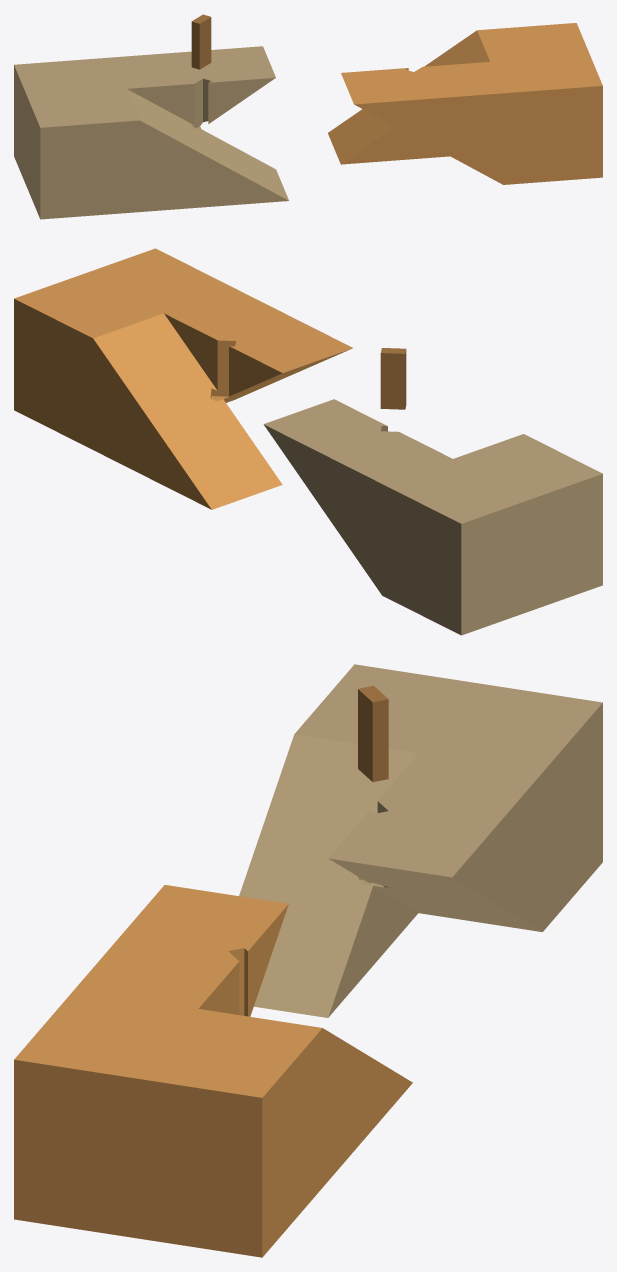
The picture shows the model from 3 angles, top to bottom: view 1: azimuth 30°, elevation 25°; view 2: azimuth 150°, elevation 25°; view 3: azimuth 270°, elevation 25°; orthographic projection. The views are drawn at different scales.
Bounding box in the file's own units: 11.64 × 3.4 × 6.68.
